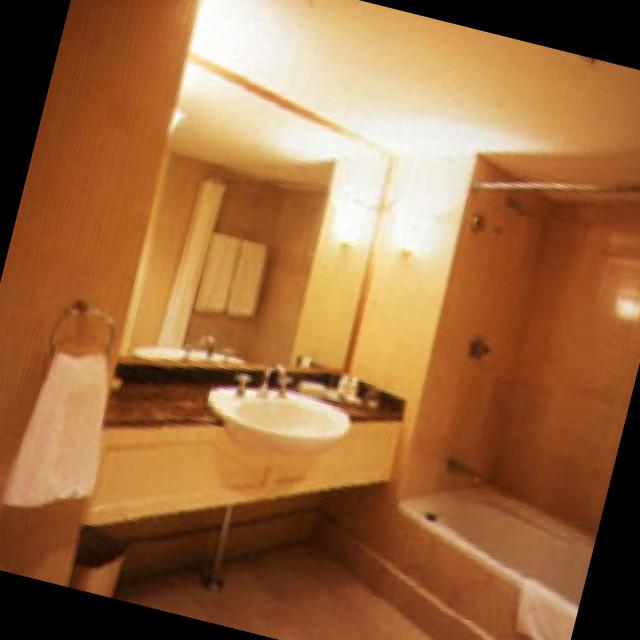bath occluded: (452, 447, 495, 491)
bathtub: (383, 482, 597, 640)
counter bottom: (105, 378, 404, 429)
floor -X: (110, 536, 443, 640)
jar -X: (366, 379, 386, 408)
lamp crop: (388, 205, 442, 258)
mirror crop: (122, 48, 400, 373)
pipe: (205, 504, 243, 583)
shower crop: (377, 147, 640, 640)
shower handle: (512, 193, 545, 219)
sink basin: (212, 382, 353, 451)
sink occluded: (243, 360, 303, 395)
towel basket: (7, 346, 114, 506), (4, 349, 111, 509), (198, 230, 270, 315), (522, 579, 579, 640)
towel ring: (55, 298, 120, 363)
trash compactor: (72, 533, 132, 594), (77, 542, 129, 592)
